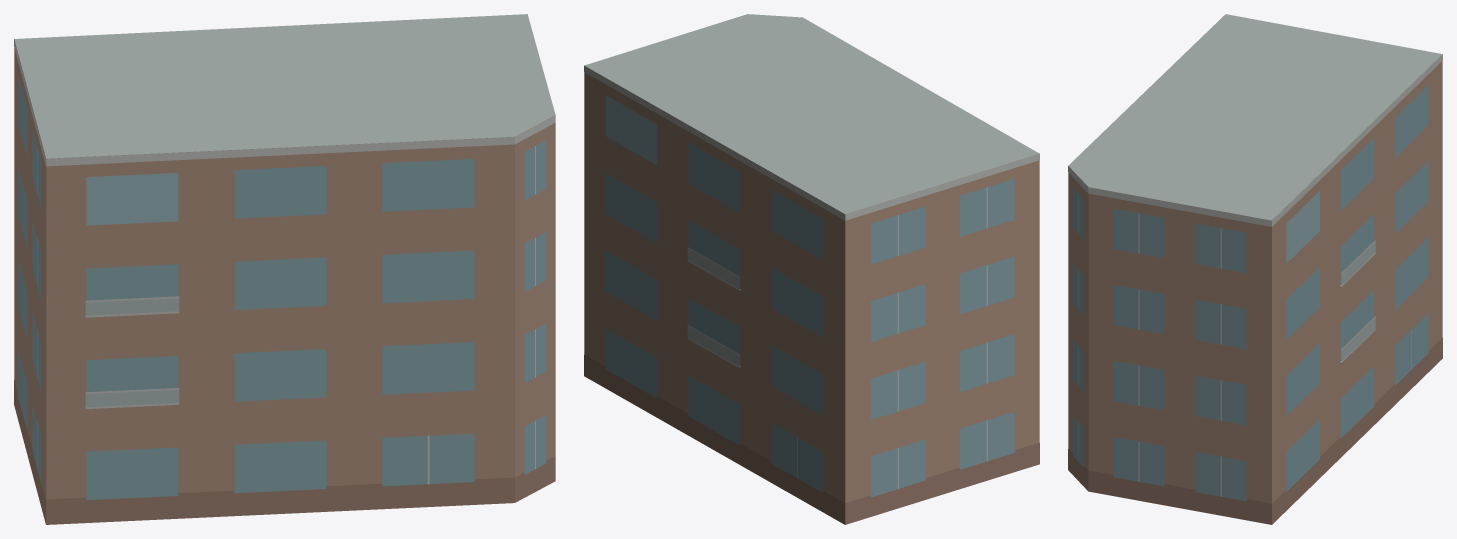
The model's file is survey-upis-32526884.glb.
The picture shows the model from 3 angles, left to right: view 1: azimuth 30°, elevation 25°; view 2: azimuth 150°, elevation 25°; view 3: azimuth 270°, elevation 25°; orthographic projection. The views are drawn at different scales.
Parts seen in each view (by area): view 1: survey-upis-32526884.tmp; view 2: survey-upis-32526884.tmp; view 3: survey-upis-32526884.tmp.
Boxes of the visible parts, <box> form: survey-upis-32526884.tmp: <box>14,14,555,524</box>; survey-upis-32526884.tmp: <box>584,14,1039,524</box>; survey-upis-32526884.tmp: <box>1068,14,1442,524</box>.
Bounding box in the file's own units: 16.9 × 11.6 × 12.95.
